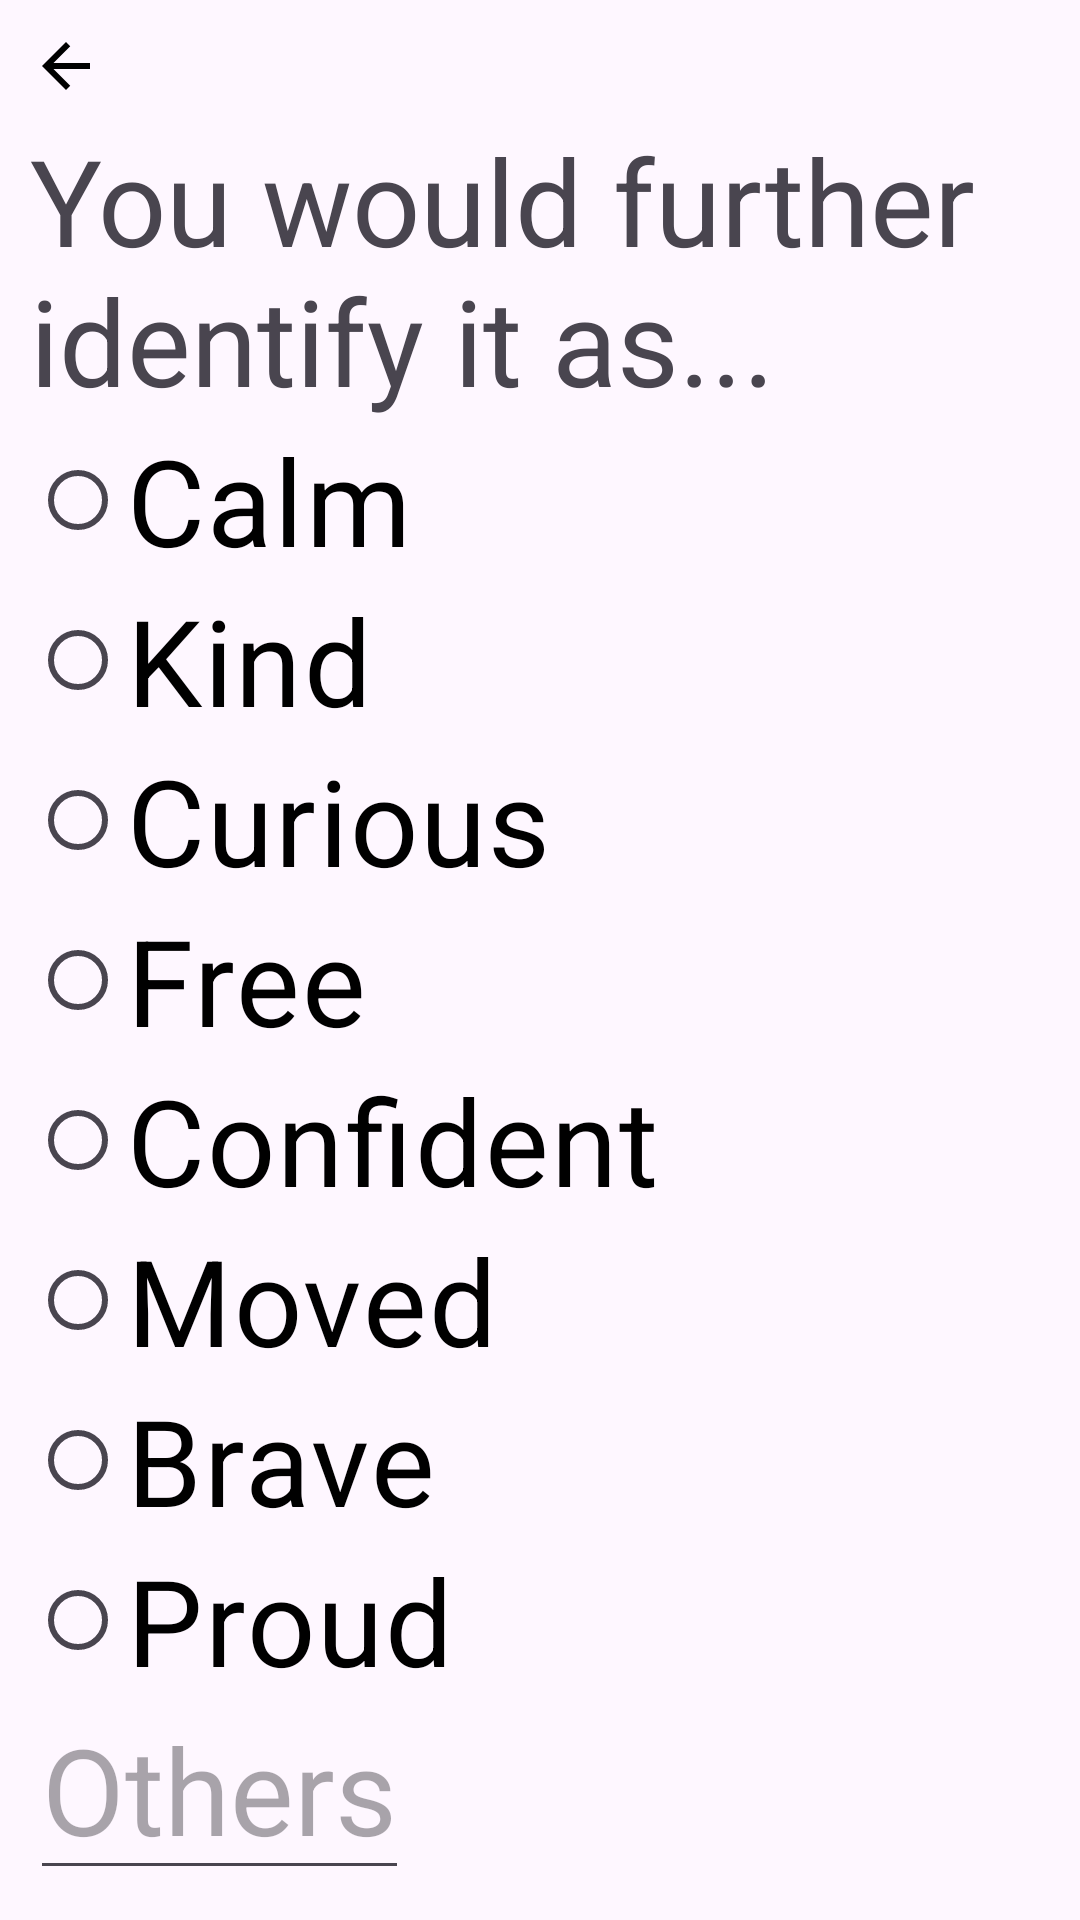

Where to tap for icons on this 1080w x 1920h app screen, as (x=x, y=y):
arrow back: (x=66, y=66)
